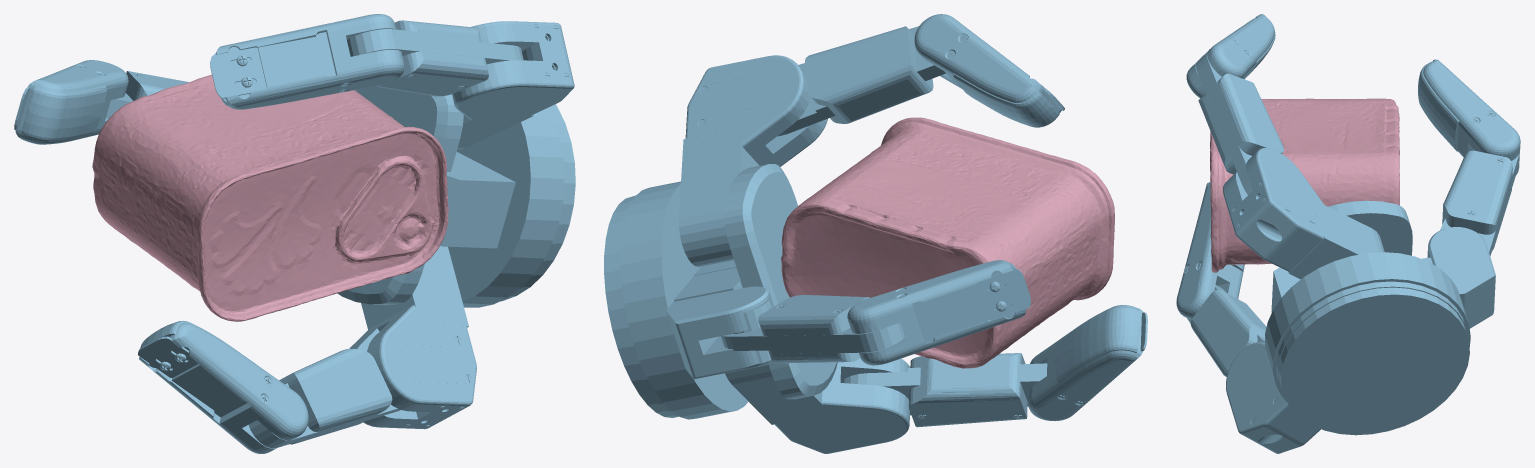
3 renders of one model, left to right at view 1: azimuth 30°, elevation 25°; view 2: azimuth 150°, elevation 25°; view 3: azimuth 270°, elevation 25°, orthographic. The views are drawn at different scales.
Visible parts, largest first — view 1: world, potted_meat_can.stl; view 2: world, potted_meat_can.stl; view 3: world, potted_meat_can.stl.
Part boxes in pixels (bbox=[...]): world: bbox=[14, 14, 575, 453]; potted_meat_can.stl: bbox=[92, 74, 448, 321]; world: bbox=[604, 14, 1147, 453]; potted_meat_can.stl: bbox=[781, 117, 1114, 368]; world: bbox=[1176, 14, 1520, 453]; potted_meat_can.stl: bbox=[1210, 98, 1399, 272].
Size of the model in its own units: 0.196 by 0.1804 by 0.1512.
